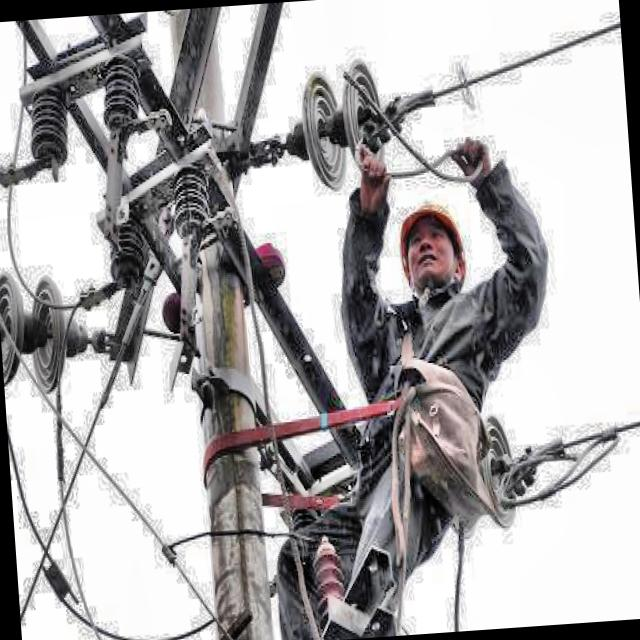helmet: (388, 175, 474, 308)
